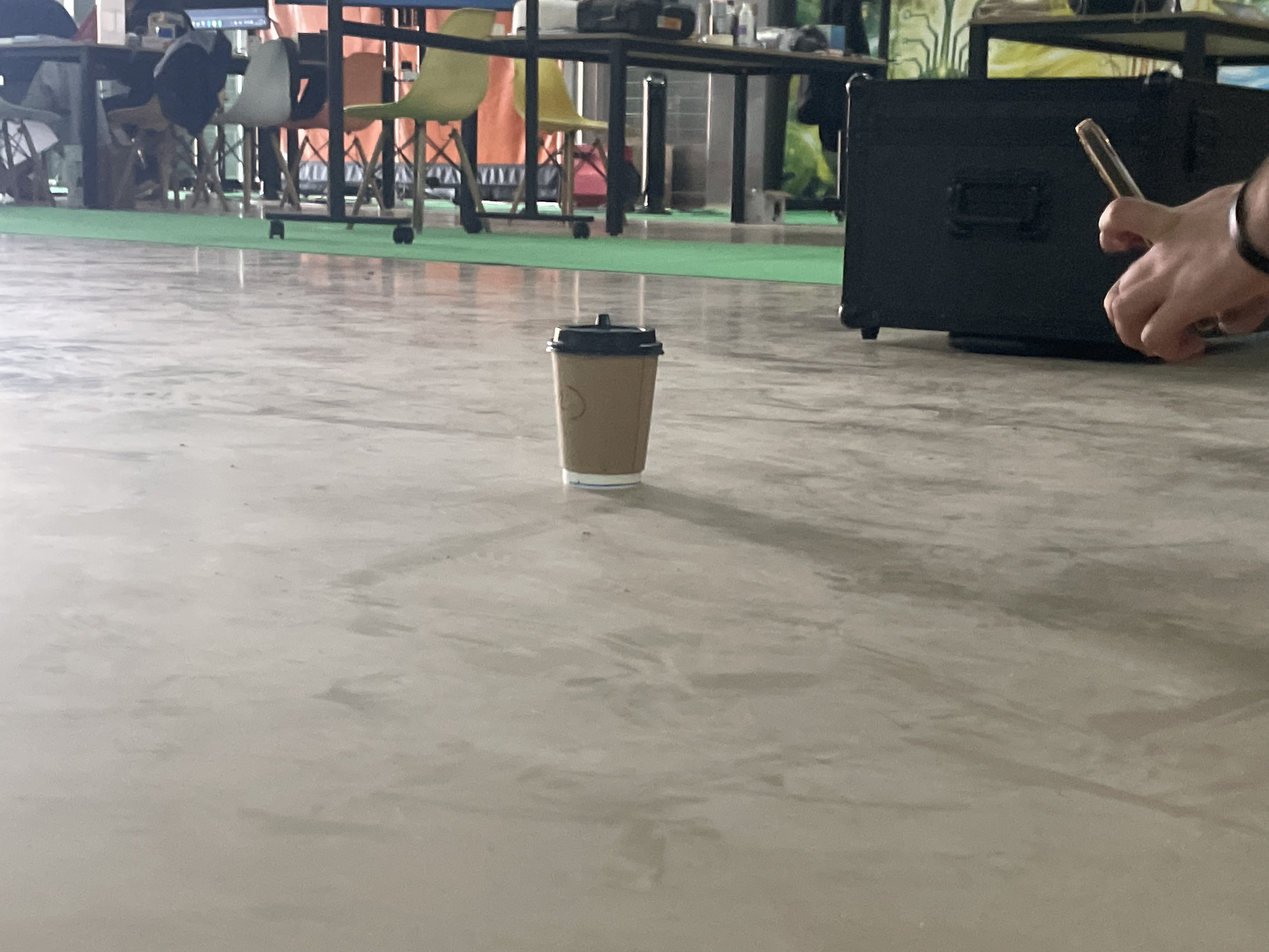cup: (547, 314, 665, 491)
